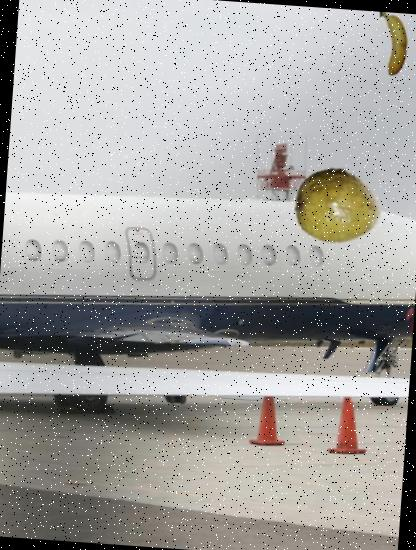Banana: (356, 10, 416, 75)
Guava: (291, 158, 386, 253)
